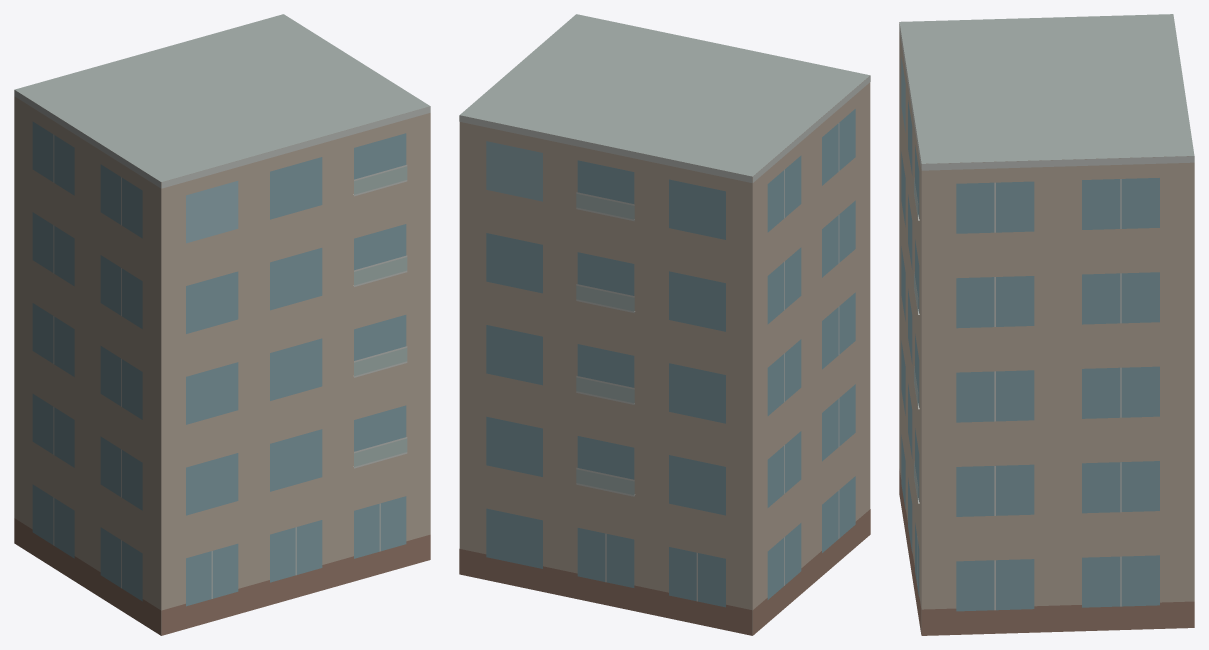
File: survey-upis-32901958.glb
3 views of the same model, side by side, from view 1: azimuth 30°, elevation 25°; view 2: azimuth 150°, elevation 25°; view 3: azimuth 270°, elevation 25° (orthographic). The views are drawn at different scales.
Visible parts, largest first — view 1: survey-upis-32901958.tmp; view 2: survey-upis-32901958.tmp; view 3: survey-upis-32901958.tmp.
Boxes of the visible parts, x1,y1,x2,y2 form: survey-upis-32901958.tmp: [14, 14, 430, 635]; survey-upis-32901958.tmp: [459, 14, 870, 635]; survey-upis-32901958.tmp: [899, 14, 1194, 635].
Size of the model in its own units: 11.56 by 16.95 by 9.62.
